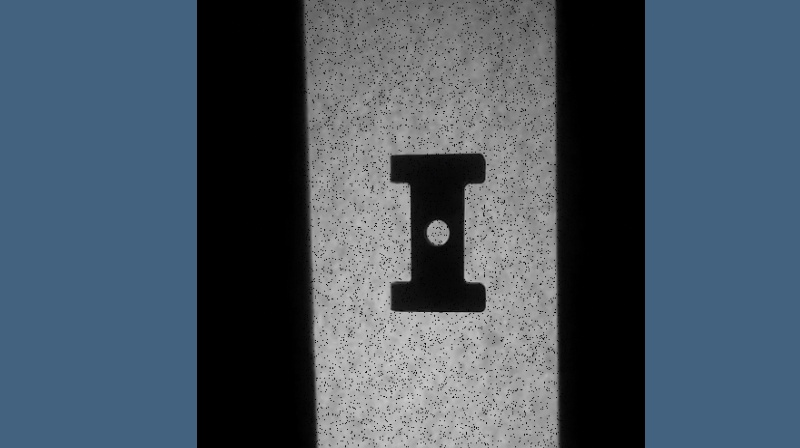O002: (386, 149, 487, 315)
